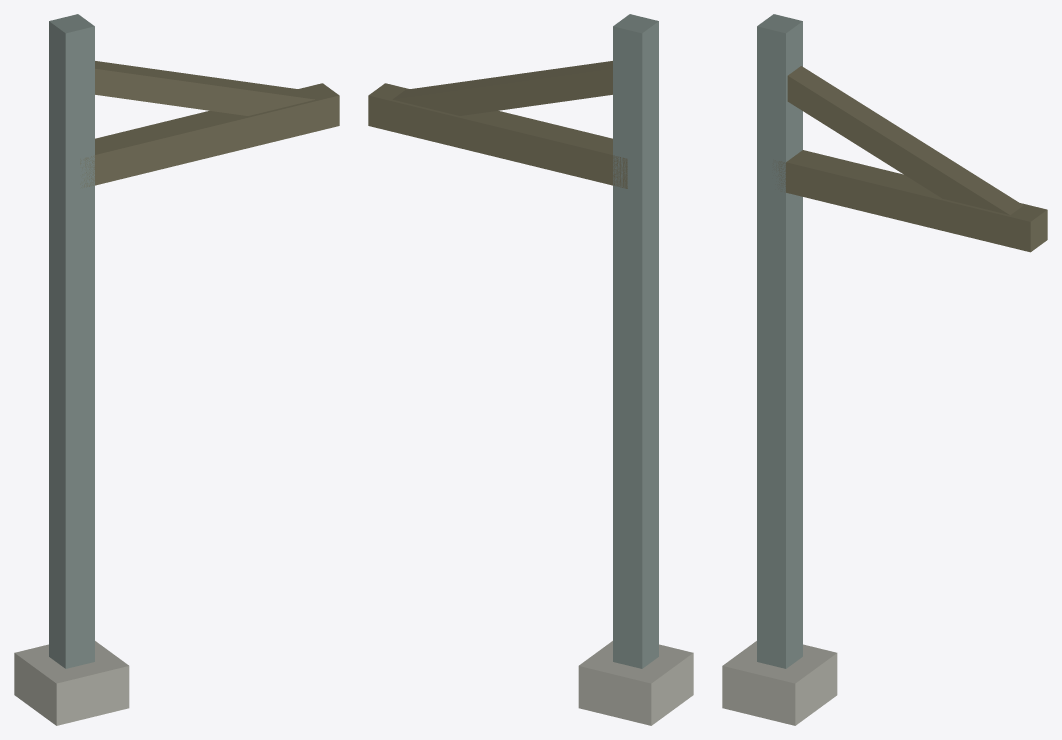
The model's file is SM_poste_catenaria_v4_LOD1.fbx.
3 renders of one model, left to right at view 1: azimuth 30°, elevation 25°; view 2: azimuth 150°, elevation 25°; view 3: azimuth 330°, elevation 25°, orthographic.
Visible parts, largest first — view 1: SM_bloques.poste_catenaria_v4_LOD1; view 2: SM_bloques.poste_catenaria_v4_LOD1; view 3: SM_bloques.poste_catenaria_v4_LOD1.
Boxes of the visible parts, x1,y1,x2,y2 form: SM_bloques.poste_catenaria_v4_LOD1: (14,14,339,725); SM_bloques.poste_catenaria_v4_LOD1: (368,14,693,725); SM_bloques.poste_catenaria_v4_LOD1: (722,14,1047,725).
Bounding box in the file's own units: 3.65 × 8 × 0.9.
